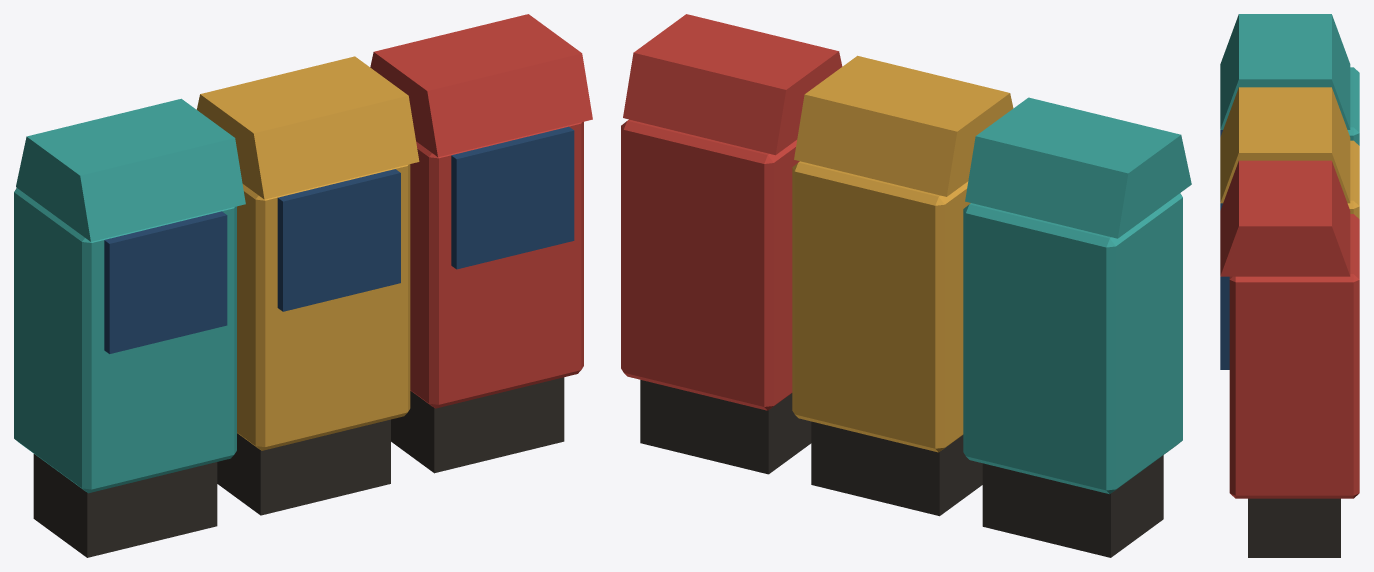
The model's file is newsboxes.glb.
3 renders of one model, left to right at view 1: azimuth 30°, elevation 25°; view 2: azimuth 150°, elevation 25°; view 3: azimuth 270°, elevation 25°, orthographic. The views are drawn at different scales.
Visible parts, largest first — view 1: newsboxes_body0, newsboxes_body2, newsboxes_body1, newsboxes_hood0, newsboxes_hood1, newsboxes_hood2, newsboxes_window0, newsboxes_window1, newsboxes_window2, newsboxes_legs0, newsboxes_legs2, newsboxes_legs1; view 2: newsboxes_body0, newsboxes_body1, newsboxes_body2, newsboxes_hood0, newsboxes_hood1, newsboxes_hood2, newsboxes_legs0, newsboxes_legs1, newsboxes_legs2; view 3: newsboxes_body2, newsboxes_hood2, newsboxes_hood1, newsboxes_hood0, newsboxes_legs2, newsboxes_window2, newsboxes_body0, newsboxes_body1.
Part boxes in pixels (x1,y1,x2,y2): newsboxes_body0: (14, 188, 236, 493); newsboxes_body2: (410, 122, 583, 408); newsboxes_body1: (237, 164, 410, 450); newsboxes_hood0: (16, 98, 245, 241); newsboxes_hood1: (196, 56, 419, 199); newsboxes_hood2: (370, 14, 592, 157); newsboxes_window0: (104, 211, 227, 353); newsboxes_window1: (277, 169, 400, 311); newsboxes_window2: (451, 126, 574, 269); newsboxes_legs0: (33, 454, 217, 557); newsboxes_legs2: (391, 377, 564, 473); newsboxes_legs1: (217, 419, 390, 515); newsboxes_body0: (963, 193, 1182, 494); newsboxes_body1: (792, 161, 970, 452); newsboxes_body2: (621, 119, 799, 410); newsboxes_hood0: (965, 97, 1191, 238); newsboxes_hood1: (794, 55, 1013, 196); newsboxes_hood2: (623, 14, 842, 155); newsboxes_legs0: (982, 455, 1163, 557); newsboxes_legs1: (811, 421, 982, 516); newsboxes_legs2: (640, 380, 811, 474); newsboxes_body2: (1229, 214, 1359, 498); newsboxes_hood2: (1220, 160, 1350, 276); newsboxes_hood1: (1220, 87, 1350, 203); newsboxes_hood0: (1220, 14, 1350, 129); newsboxes_legs2: (1248, 498, 1340, 557); newsboxes_window2: (1220, 276, 1229, 369); newsboxes_body0: (1347, 67, 1359, 145); newsboxes_body1: (1347, 140, 1359, 218).
Size of the model in its own units: 1.62 by 1.2 by 0.45.
